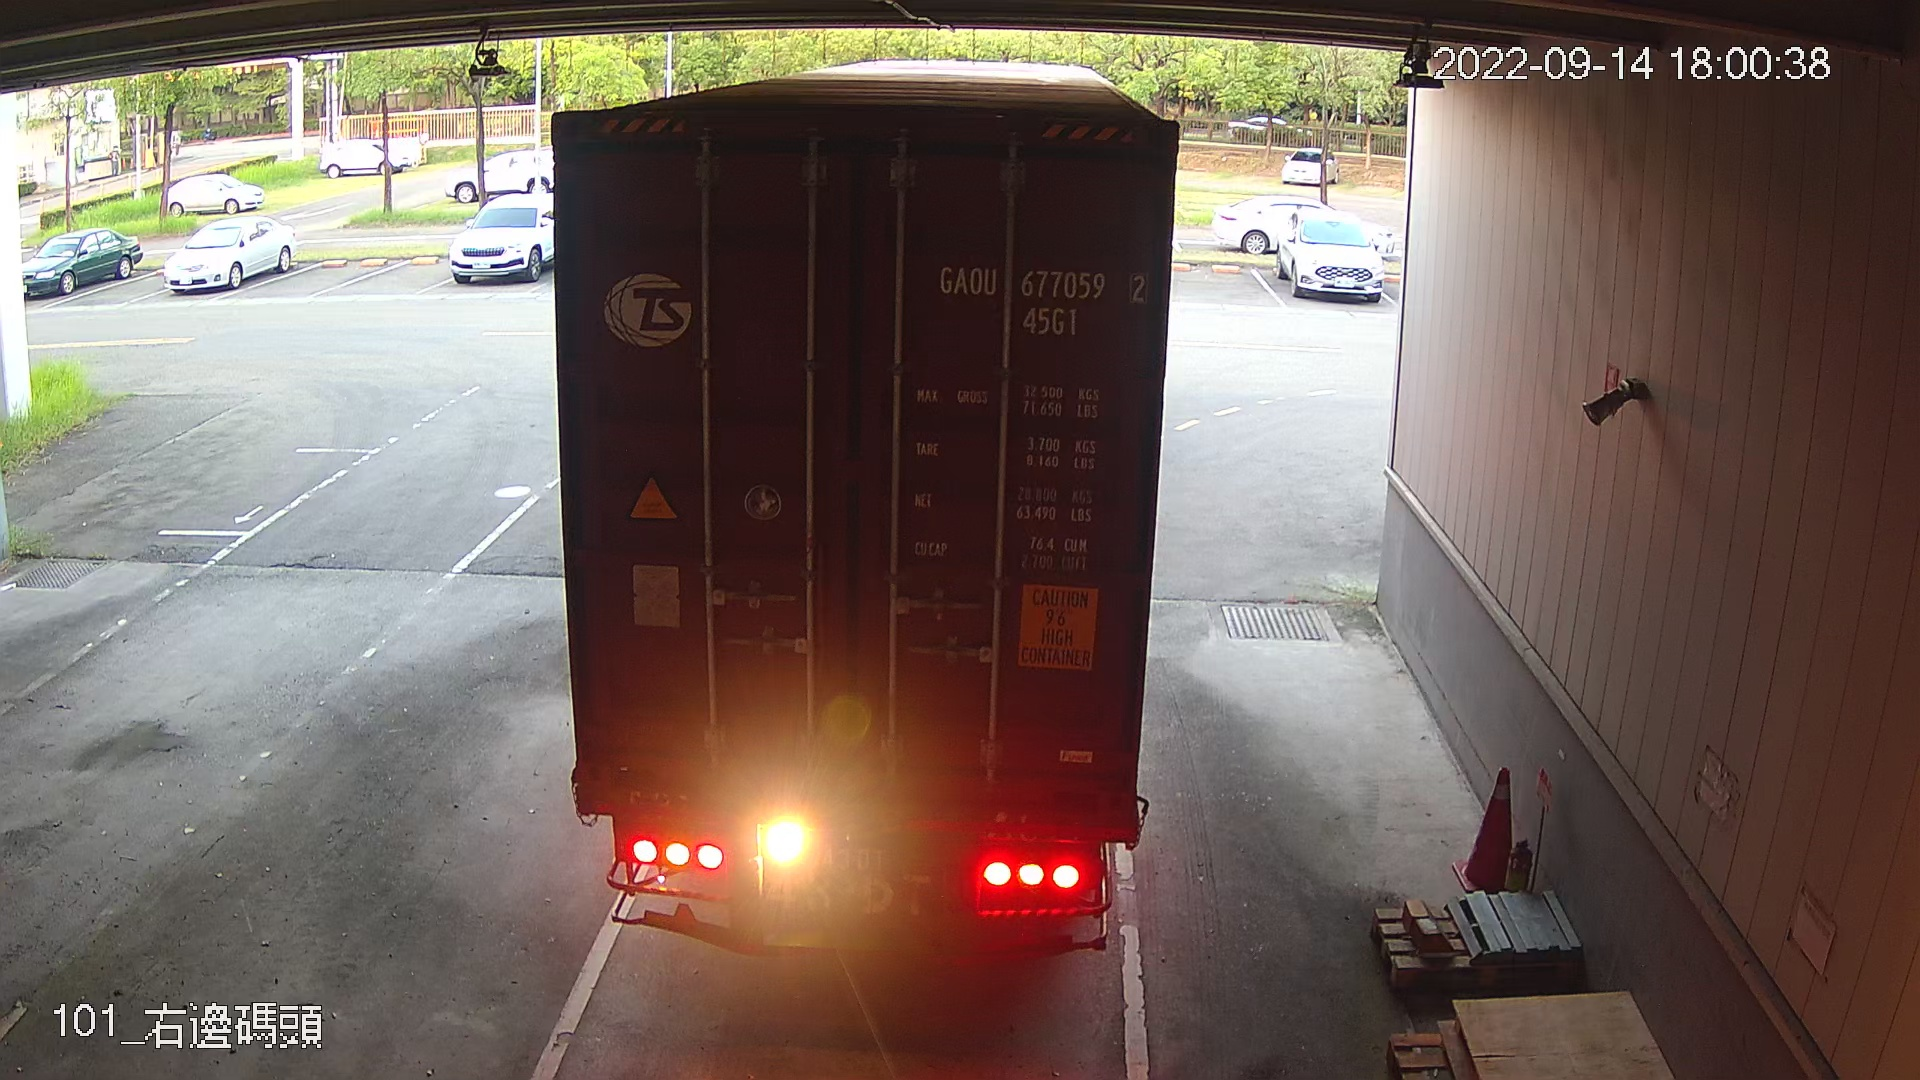container: (932, 255, 1156, 342)
